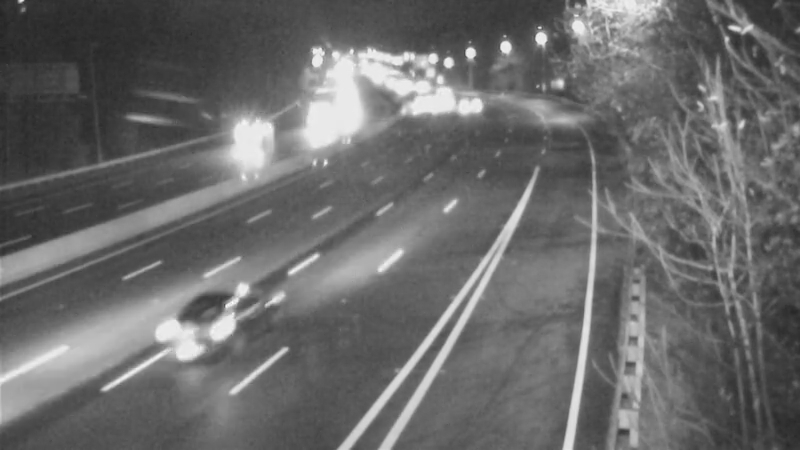vehicle: (147, 280, 257, 390), (420, 78, 470, 128), (446, 83, 496, 133), (401, 79, 451, 129), (393, 86, 443, 136), (219, 113, 269, 163), (293, 107, 343, 157)
